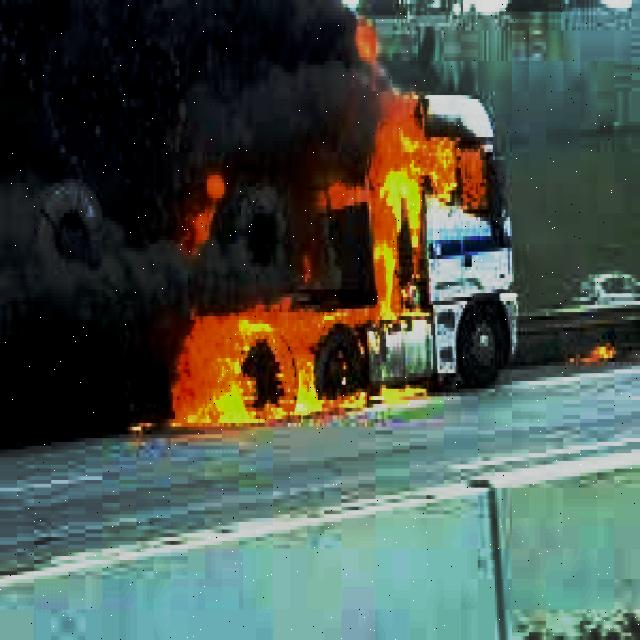api: (166, 100, 464, 439)
